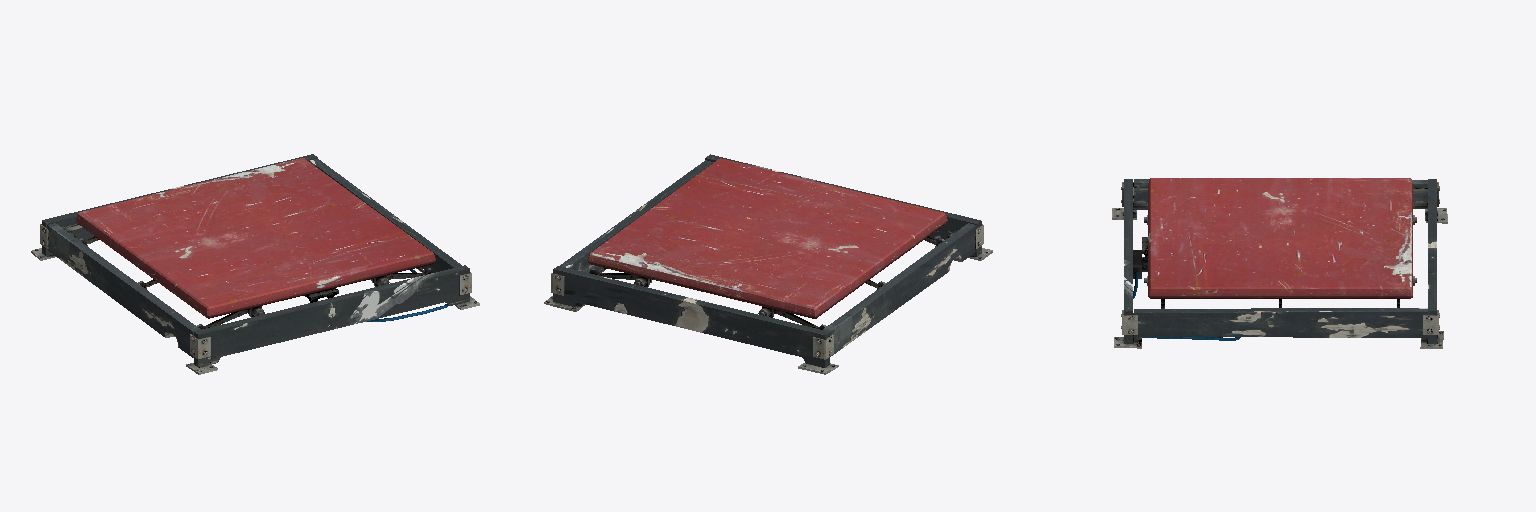
3 views of the same model, side by side, from view 1: azimuth 30°, elevation 25°; view 2: azimuth 150°, elevation 25°; view 3: azimuth 270°, elevation 25° (orthographic).
Visible parts, largest first — view 1: g0; view 2: g0; view 3: g0.
Boxes of the visible parts, x1,y1,x2,y2 form: g0: [31, 154, 479, 374]; g0: [544, 154, 992, 374]; g0: [1112, 178, 1447, 348].
Size of the model in its own units: 101 by 15.82 by 103.
1 materials, 1 textured.